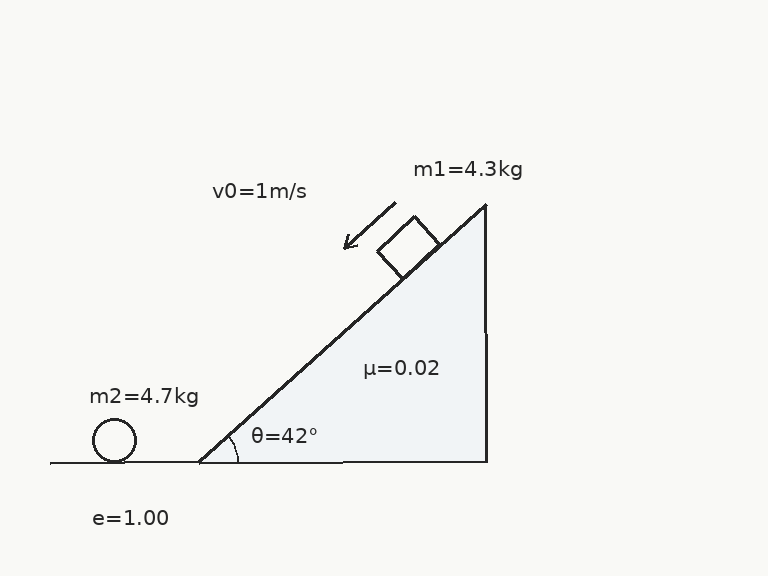ball: (90, 416, 138, 464)
block: (375, 215, 442, 280)
ramp: (196, 201, 488, 464)
